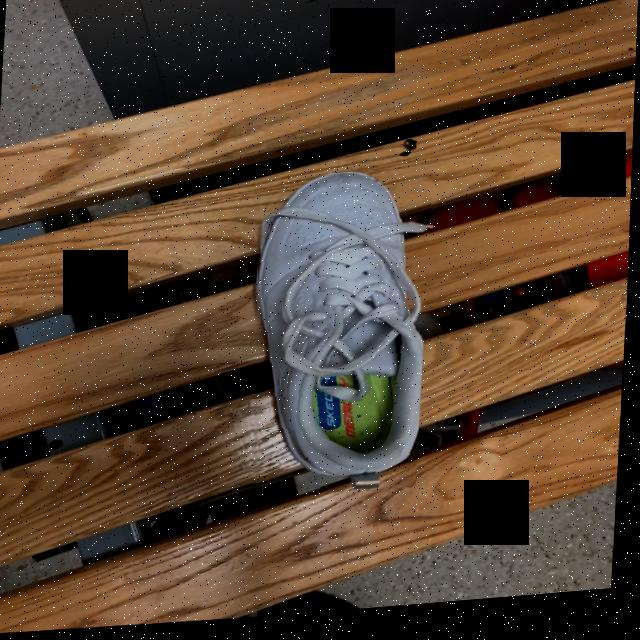shoe: (260, 178, 429, 500)
